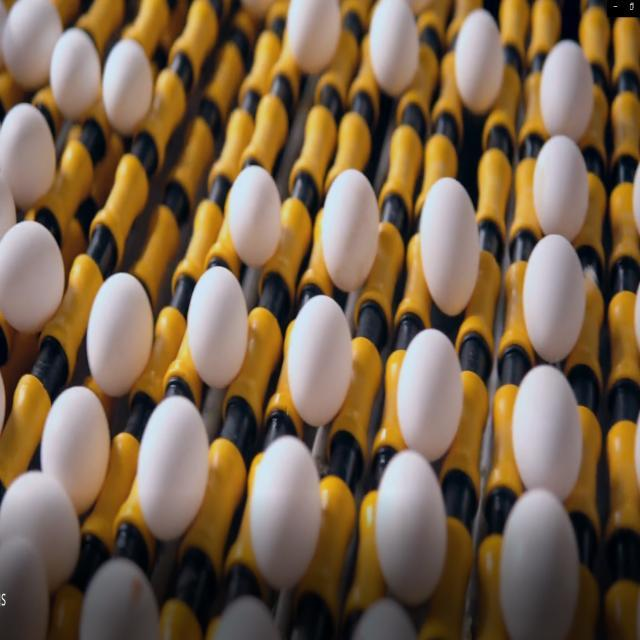Egg: (500, 495, 590, 640), (136, 390, 213, 540), (250, 437, 324, 585), (281, 287, 361, 423), (415, 166, 483, 320), (376, 458, 449, 600), (320, 152, 392, 294), (511, 371, 586, 506), (395, 326, 468, 462), (41, 382, 114, 516), (184, 260, 252, 396), (86, 258, 156, 387), (522, 236, 588, 368), (3, 466, 81, 576), (0, 216, 72, 330), (220, 166, 296, 268), (0, 77, 54, 210), (454, 3, 513, 118), (541, 40, 601, 147), (531, 136, 593, 237), (84, 559, 161, 640), (105, 34, 158, 148), (366, 1, 430, 95), (4, 3, 72, 90), (282, 0, 348, 77), (46, 28, 100, 122)
